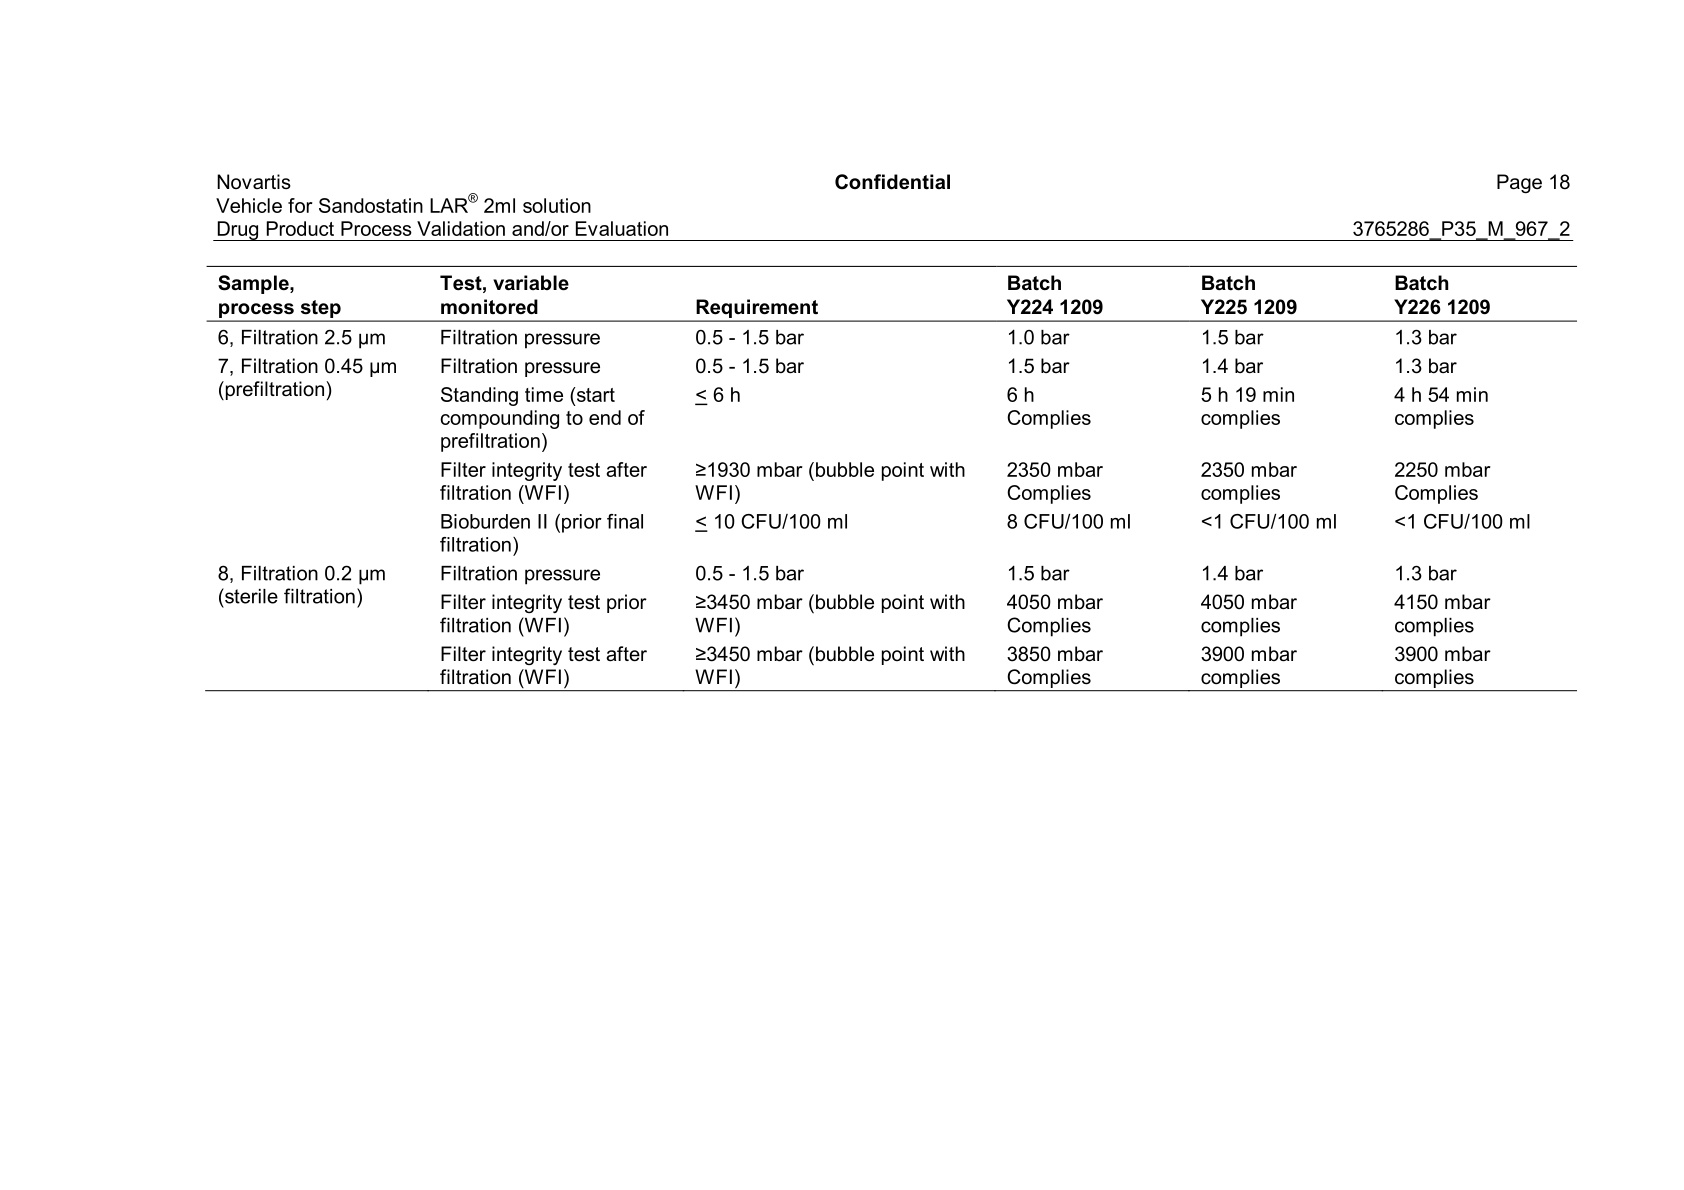partial_lined: (205, 264, 1577, 695)
